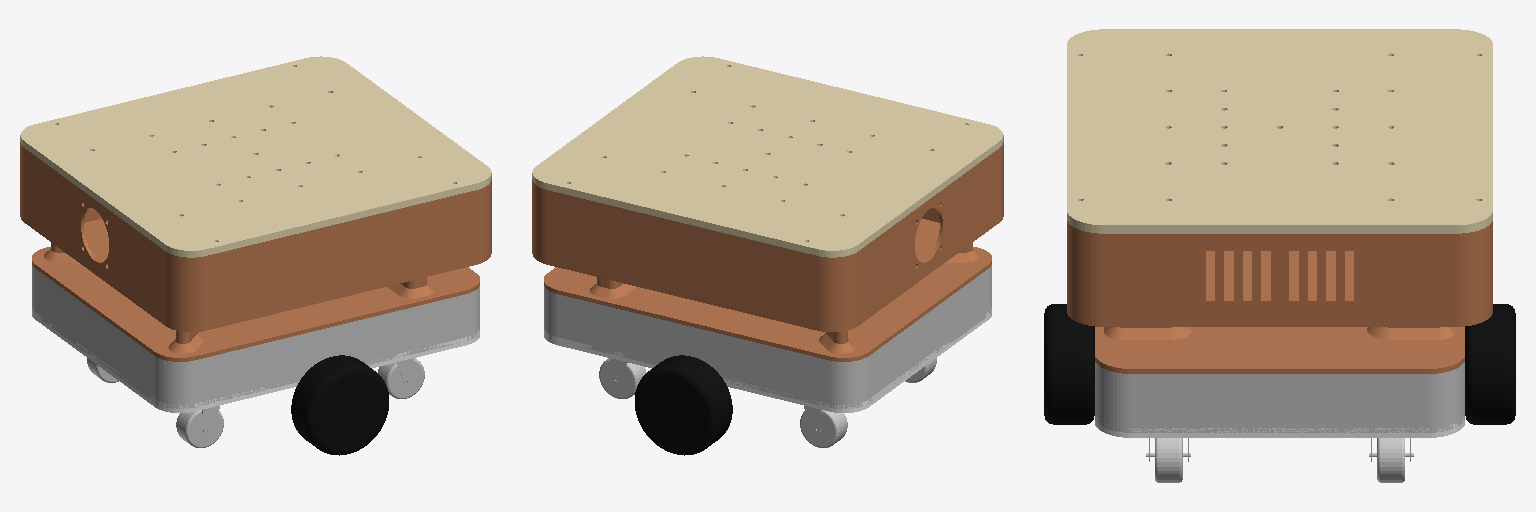
robot.urdf — car_robot:
<?xml version="1.0"?>
<robot name="car_robot">

  <!-- =============================== BÓNG TRÊN MẶT ĐẤT ============================== -->
  <link name="base_footprint"/>

  <!-- Nâng toàn bộ xe lên 5cm để bánh xe vừa chạm đất -->
  <joint name="base_joint" type="fixed">
    <parent link="base_footprint"/>
    <child link="base_link"/>
    <origin xyz="0 0 0.05" rpy="0 0 0"/>
  </joint>

  <!-- =============================== TẦNG ĐÁY (Khung gầm) ========================= -->
  <link name="base_link">
    <!-- KHỐI LƯỢNG & QUÁN TÍNH -->
    <inertial>
      <origin xyz="0 0 0.03" rpy="0 0 0"/>
      <mass value="2.0"/>
      <inertia ixx="0.007266" ixy="0.0" ixz="0.0" iyy="0.011866" iyz="0.0" izz="0.017933"/>
    </inertial>

    <visual>
      <geometry>
        <mesh filename="package://car_desciptionns/meshes/base_link.stl" scale="0.001 0.001 0.001"/>
      </geometry>
      <material name="Silver"><color rgba="0.8 0.8 0.8 1.0"/></material>
    </visual>
    
    <!-- VA CHẠM THÂN XE: Bóp hẹp Y để bánh xe rảnh rang xoay -->
    <collision>
      <origin xyz="0 0 0.03" rpy="0 0 0"/>
      <geometry>
        <box size="0.26 0.15 0.06"/>
      </geometry>
    </collision>

  </link>

  <gazebo reference="base_link">
    <mu1>0.2</mu1>
    <mu2>0.2</mu2>
    <material>Gazebo/Silver</material>
  </gazebo>

  <!-- =============================== 4 BÁNH ĐỠ GÓC (CASTERS) ===================== -->
  <!-- Trước Trái -->
  <joint name="caster_fl_joint" type="fixed">
    <parent link="base_link"/>
    <child link="caster_fl_link"/>
    <origin xyz="0.075 0.06 -0.005" rpy="0 0 0"/>
  </joint>
  <link name="caster_fl_link">
    <inertial>
      <origin xyz="0 0 0.03" rpy="0 0 0"/>
      <mass value="0.05"/>
      <inertia ixx="0.00001" ixy="0.0" ixz="0.0" iyy="0.00001" iyz="0.0" izz="0.00001"/>
    </inertial>
    <visual>
      <origin xyz="0 0 0" rpy="-1.5707963 0 1.5707963"/>
      <geometry>
        <mesh filename="package://car_desciptionns/meshes/wheel_support.stl" scale="0.0003 0.0003 0.0003"/>
      </geometry>
      <material name="Silver"/>
    </visual>
    <collision>
      <origin xyz="0 0 -0.03" rpy="0 0 0"/>
      <geometry>
        <sphere radius="0.015"/>
      </geometry>
    </collision>
  </link>
  <gazebo reference="caster_fl_link">
    <mu1>0.0</mu1>
    <mu2>0.0</mu2>
    <material>Gazebo/Silver</material>
  </gazebo>

  <!-- Trước Phải -->
  <joint name="caster_fr_joint" type="fixed">
    <parent link="base_link"/>
    <child link="caster_fr_link"/>
    <origin xyz="0.075 -0.06 -0.005" rpy="0 0 0"/>
  </joint>
  <link name="caster_fr_link">
    <inertial>
      <origin xyz="0 0 0" rpy="0 0 0"/>
      <mass value="0.05"/>
      <inertia ixx="0.00001" ixy="0.0" ixz="0.0" iyy="0.00001" iyz="0.0" izz="0.00001"/>
    </inertial>
    <visual>
      <!-- Xoay cùm đứng xuống, góc lốp lăn đúng chiều -->
      <origin xyz="0 0 0" rpy="-1.5707963 0 1.5707963"/>
      <geometry>
        <mesh filename="package://car_desciptionns/meshes/wheel_support.stl" scale="0.0003 0.0003 0.0003"/>
      </geometry>
      <material name="Silver"/>
    </visual>
    <collision>
      <origin xyz="0 0 -0.03" rpy="0 0 0"/>
      <geometry>
        <sphere radius="0.015"/>
      </geometry>
    </collision>
  </link>
  <gazebo reference="caster_fr_link">
    <mu1>0.0</mu1>
    <mu2>0.0</mu2>
    <material>Gazebo/Silver</material>
  </gazebo>

  <!-- Sau Trái -->
  <joint name="caster_bl_joint" type="fixed">
    <parent link="base_link"/>
    <child link="caster_bl_link"/>
    <origin xyz="-0.075 0.06 -0.005" rpy="0 0 3.14159"/>
  </joint>
  <link name="caster_bl_link">
    <inertial>
      <origin xyz="0 0 0" rpy="0 0 0"/>
      <mass value="0.05"/>
      <inertia ixx="0.00001" ixy="0.0" ixz="0.0" iyy="0.00001" iyz="0.0" izz="0.00001"/>
    </inertial>
    <visual>
      <!-- Xoay cùm đứng xuống, góc lốp lăn đúng chiều -->
      <origin xyz="0 0 0" rpy="-1.5707963 0 1.5707963"/>
      <geometry>
        <mesh filename="package://car_desciptionns/meshes/wheel_support.stl" scale="0.0003 0.0003 0.0003"/>
      </geometry>
      <material name="Silver"/>
    </visual>
    <collision>
      <origin xyz="0 0 -0.03" rpy="0 0 0"/>
      <geometry>
        <sphere radius="0.015"/>
      </geometry>
    </collision>
  </link>
  <gazebo reference="caster_bl_link">
    <mu1>0.0</mu1>
    <mu2>0.0</mu2>
    <material>Gazebo/Silver</material>
  </gazebo>

  <!-- Sau Phải -->
  <joint name="caster_br_joint" type="fixed">
    <parent link="base_link"/>
    <child link="caster_br_link"/>
    <origin xyz="-0.075 -0.06 -0.005" rpy="0 0 3.14159"/>
  </joint>
  <link name="caster_br_link">
    <inertial>
      <origin xyz="0 0 0" rpy="0 0 0"/>
      <mass value="0.05"/>
      <inertia ixx="0.00001" ixy="0.0" ixz="0.0" iyy="0.00001" iyz="0.0" izz="0.00001"/>
    </inertial>
    <visual>
      <!-- Xoay cùm đứng xuống, góc lốp lăn đúng chiều -->
      <origin xyz="0 0 0" rpy="-1.5707963 0 1.5707963"/>
      <geometry>
        <mesh filename="package://car_desciptionns/meshes/wheel_support.stl" scale="0.0003 0.0003 0.0003"/>
      </geometry>
      <material name="Silver"/>
    </visual>
    <collision>
      <origin xyz="0 0 -0.03" rpy="0 0 0"/>
      <geometry>
        <sphere radius="0.015"/>
      </geometry>
    </collision>
  </link>
  <gazebo reference="caster_br_link">
    <mu1>0.0</mu1>
    <mu2>0.0</mu2>
    <material>Gazebo/Silver</material>
  </gazebo>


  <!-- =============================== NỘI THẤT TRONG BASE_LINK ===================== -->
  <joint name="cover_joint" type="fixed">
    <parent link="base_link"/>
    <child link="cover_link"/>
    <origin xyz="0 0 0" rpy="0 0 0"/>
  </joint>
  <link name="cover_link">
    <inertial>
      <origin xyz="0 0 0" rpy="0 0 0"/>
      <mass value="0.1"/>
      <inertia ixx="0.0001" ixy="0.0" ixz="0.0" iyy="0.0001" iyz="0.0" izz="0.0001"/>
    </inertial>
    <visual>
      <geometry>
        <mesh filename="package://car_desciptionns/meshes/cover.stl" scale="0.001 0.001 0.001"/>
      </geometry>
      <material name="White"><color rgba="0.95 0.95 0.95 1.0"/></material>
    </visual>
    <collision>
      <origin xyz="0 0 0.01" rpy="0 0 0"/>
      <geometry>
        <box size="0.2 0.15 0.02"/>
      </geometry>
    </collision>
  </link>
  <gazebo reference="cover_link">
    <material>Gazebo/White</material>
  </gazebo>

  <!-- Cụm Lidar Nằm Giữa Base Link -->
  <joint name="lidar_holder_joint" type="fixed">
    <parent link="base_link"/>
    <child link="lidar_holder_link"/>
    <origin xyz="0 0 0.013" rpy="0 0 0"/>
  </joint>
  <link name="lidar_holder_link">
    <inertial>
      <origin xyz="0 0 0" rpy="0 0 0"/>
      <mass value="0.05"/>
      <inertia ixx="0.00001" ixy="0.0" ixz="0.0" iyy="0.00001" iyz="0.0" izz="0.00001"/>
    </inertial>
    <visual>
      <geometry>
        <mesh filename="package://car_desciptionns/meshes/lidar_holder.stl" scale="0.001 0.001 0.001"/>
      </geometry>
      <material name="Green"><color rgba="0.2 0.8 0.2 1.0"/></material>
    </visual>
  </link>
  <gazebo reference="lidar_holder_link">
    <material>Gazebo/Green</material>
  </gazebo>

  <joint name="lidar_joint" type="fixed">
    <parent link="lidar_holder_link"/>
    <child link="lidar_link"/>
    <origin xyz="0 0 0.008" rpy="0 0 0"/>
  </joint>
  <link name="lidar_link">
    <inertial>
      <origin xyz="0 0 0" rpy="0 0 0"/>
      <mass value="0.1"/>
      <inertia ixx="0.00005" ixy="0.0" ixz="0.0" iyy="0.00005" iyz="0.0" izz="0.00005"/>
    </inertial>
    <visual>
      <geometry>
        <mesh filename="package://car_desciptionns/meshes/lidar_link.stl" scale="0.001 0.001 0.001"/>
      </geometry>
      <material name="Black"><color rgba="0.05 0.05 0.05 1.0"/></material>
    </visual>
    <collision>
      <origin xyz="0 0 0.01" rpy="0 0 0"/>
      <geometry>
        <cylinder radius="0.035" length="0.04"/>
      </geometry>
    </collision>
  </link>
  <gazebo reference="lidar_link">
    <material>Gazebo/Black</material>
  </gazebo>

  <joint name="laser_joint" type="fixed">
    <parent link="lidar_link"/>
    <child link="laser"/>
    <origin xyz="0 0 0.015" rpy="0 0 0"/>
  </joint>
  <link name="laser"/>


  <!-- =============================== TẦNG THÂN (HOLDER) =========================== -->
  <joint name="holder_joint" type="fixed">
    <parent link="base_link"/>
    <child link="holder_link"/>
    <origin xyz="0 0 0.066" rpy="0 3.14159 0"/>
  </joint>
  <link name="holder_link">
    <inertial>
      <origin xyz="0 0 -0.03" rpy="0 0 0"/>
      <mass value="0.2"/>
      <inertia ixx="0.0002" ixy="0.0" ixz="0.0" iyy="0.0002" iyz="0.0" izz="0.0002"/>
    </inertial>
    <visual>
      <geometry>
        <mesh filename="package://car_desciptionns/meshes/holder.stl" scale="0.001 0.001 0.001"/>
      </geometry>
      <material name="Copper"><color rgba="0.75 0.5 0.35 1.0"/></material>
    </visual>
    <collision>
      <origin xyz="0 0 -0.03" rpy="0 0 0"/>
      <geometry>
        <box size="0.2 0.15 0.06"/>
      </geometry>
    </collision>
  </link>
  <gazebo reference="holder_link">
    <material>Gazebo/Orange</material>
  </gazebo>

  <!-- =============================== TẦNG ÁP MÁI (ADDON) ========================== -->
  <joint name="addon_joint" type="fixed">
    <parent link="base_link"/>
    <child link="addon_link"/>
    <origin xyz="0 0 0.1185" rpy="0 0 0"/>
  </joint>
  <link name="addon_link">
    <inertial>
      <origin xyz="0 0 0.01" rpy="0 0 0"/>
      <mass value="0.1"/>
      <inertia ixx="0.0001" ixy="0.0" ixz="0.0" iyy="0.0001" iyz="0.0" izz="0.0001"/>
    </inertial>
    <visual>
      <geometry>
        <mesh filename="package://car_desciptionns/meshes/addon.stl" scale="0.001 0.001 0.001"/>
      </geometry>
      <material name="PaleYellow"><color rgba="0.9 0.85 0.7 1.0"/></material>
    </visual>
    <collision>
      <origin xyz="0 0 0.01" rpy="0 0 0"/>
      <geometry>
        <box size="0.2 0.15 0.02"/>
      </geometry>
    </collision>
  </link>
  <gazebo reference="addon_link">
    <material>Gazebo/Yellow</material>
  </gazebo>

  <!-- =============================== Camera Front =============================== -->
  <joint name="camera_joint" type="fixed">
    <parent link="addon_link"/>
    <child link="camera_link"/>
    <origin xyz="0.13 0.025 0.08" rpy="1.57 0 1.57"/>
  </joint>
  <link name="camera_link">
    <inertial>
      <origin xyz="0 0 0" rpy="0 0 0"/>
      <mass value="0.05"/>
      <inertia ixx="0.00001" ixy="0.0" ixz="0.0" iyy="0.00001" iyz="0.0" izz="0.00001"/>
    </inertial>
    <visual>
      <geometry>
        <mesh filename="package://car_desciptionns/meshes/astra.stl" scale="0.001 0.001 0.001"/>
      </geometry>
      <material name="Gray"><color rgba="0.5 0.5 0.5 1.0"/></material>
    </visual>
    <collision>
      <origin xyz="0 0 0" rpy="0 0 0"/>
      <geometry>
        <box size="0.04 0.16 0.03"/>
      </geometry>
    </collision>
  </link>
  <gazebo reference="camera_link">
    <material>Gazebo/Grey</material>
  </gazebo>

  <joint name="image_joint" type="fixed">
    <parent link="camera_link"/>
    <child link="image"/>
    <origin xyz="0 0 0.015" rpy="0 0 0"/>
  </joint>
  <link name="image"/>

  <!-- =============================== 2 BÁNH XE ===================== -->
  <!-- Bánh Trái -->
  <joint name="wheel_left_joint" type="continuous">
    <parent link="base_link"/>
    <child link="wheel_left_link"/>
    <origin xyz="0 0.127 -0.0175" rpy="0 0 0"/>
    <axis xyz="0 1 0"/>
  </joint>
  <link name="wheel_left_link">
    <inertial>
      <!-- Cyliner quanh trục Y, ma trận xoay quanh Y -->
      <origin xyz="0 0 0" rpy="1.5707963 0 0"/>
      <mass value="0.2"/>
      <inertia ixx="0.0000632" ixy="0.0" ixz="0.0" iyy="0.0001056" iyz="0.0" izz="0.0000632"/>
    </inertial>
    <visual>
      <geometry>
        <mesh filename="package://car_desciptionns/meshes/wheel.stl" scale="0.001 0.001 0.001"/>
      </geometry>
      <material name="Tire_Black"><color rgba="0.1 0.1 0.1 1.0"/></material>
    </visual>
    <collision>
      <origin xyz="0 0 0" rpy="1.5707963 0 0"/>
      <geometry>
        <cylinder radius="0.0325" length="0.025"/>
      </geometry>
    </collision>
  </link>
  <gazebo reference="wheel_left_link">
    <mu1>1.0</mu1>
    <mu2>1.0</mu2>
    <!-- Trục lăn dọc theo trục xoay Y của lốp -->
    <fdirl>0 0 1</fdirl>
    <material>Gazebo/DarkGrey</material>
  </gazebo>

  <!-- Bánh Phải -->
  <joint name="wheel_right_joint" type="continuous">
    <parent link="base_link"/>
    <child link="wheel_right_link"/>
    <!-- Xoay ngược góc RPY = 0 0 3.14159 (180 độ) để mặt đẹp quay ra ngoài -->
    <origin xyz="0 -0.127 -0.0175" rpy="0 0 3.14159"/>
    <!-- Do quay ngược 180 độ theo Z, trục quay Y bị đảo ngược hướng, nên Axis phải là 0 -1 0 -->
    <axis xyz="0 -1 0"/>
  </joint>
  <link name="wheel_right_link">
    <inertial>
      <origin xyz="0 0 0" rpy="1.5707963 0 0"/>
      <mass value="0.2"/>
      <inertia ixx="0.0000632" ixy="0.0" ixz="0.0" iyy="0.0001056" iyz="0.0" izz="0.0000632"/>
    </inertial>
    <visual>
      <geometry>
        <mesh filename="package://car_desciptionns/meshes/wheel.stl" scale="0.001 0.001 0.001"/>
      </geometry>
      <material name="Tire_Black"/>
    </visual>
    <collision>
      <origin xyz="0 0 0" rpy="1.5707963 0 0"/>
      <geometry>
        <cylinder radius="0.0325" length="0.025"/>
      </geometry>
    </collision>
  </link>
  <gazebo reference="wheel_right_link">
    <mu1>1.0</mu1>
    <mu2>1.0</mu2>
    <fdir1>0 0 1</fdir1>
    <material>Gazebo/DarkGrey</material>
  </gazebo>

  <!-- =============================== GAZEBO ROS DIFF DRIVE ===================== -->
  <gazebo>
    <plugin name="diff_drive" filename="libgazebo_ros_diff_drive.so">
      <!-- Cấu hình khớp -->
      <left_joint>wheel_left_joint</left_joint>
      <right_joint>wheel_right_joint</right_joint>

      <!-- Kích thước -->
      <wheel_separation>0.254</wheel_separation>
      <wheel_diameter>0.065</wheel_diameter>

      <!-- Giới hạn Lực & Tốc độ -->
      <max_wheel_torque>20</max_wheel_torque>
      <max_wheel_acceleration>1.0</max_wheel_acceleration>

      <!-- Odom -->
      <publish_odom>true</publish_odom>
      <publish_odom_tf>true</publish_odom_tf>
      <publish_wheel_tf>true</publish_wheel_tf>

      <odometry_frame>odom</odometry_frame>
      <robot_base_frame>base_footprint</robot_base_frame>
    </plugin>
  </gazebo>

</robot>

--- Render facts (derived) ---
3 views of the same robot in one strip: view 1: azimuth 30°, elevation 25°; view 2: azimuth 150°, elevation 25°; view 3: azimuth 270°, elevation 25° (orthographic).
Model car_robot with 16 links and 15 joints (2 continuous, 13 fixed), rooted at base_footprint, posed all joints at 0.
Links seen in each view (by area): view 1: addon_link, holder_link, base_link, wheel_right_link, cover_link, caster_br_link, caster_fr_link; view 2: addon_link, holder_link, base_link, wheel_left_link, cover_link, caster_bl_link, caster_fl_link; view 3: addon_link, holder_link, base_link, wheel_left_link, wheel_right_link, cover_link, caster_fl_link, caster_fr_link.
Boxes of the visible links, <box> form: addon_link: <box>20,56,491,257</box>; holder_link: <box>20,142,491,361</box>; base_link: <box>32,265,479,408</box>; wheel_right_link: <box>291,355,388,455</box>; cover_link: <box>32,308,479,412</box>; caster_br_link: <box>176,406,223,447</box>; caster_fr_link: <box>378,358,424,398</box>; addon_link: <box>532,56,1003,257</box>; holder_link: <box>532,142,1003,361</box>; base_link: <box>544,265,991,408</box>; wheel_left_link: <box>635,355,732,455</box>; cover_link: <box>544,308,991,412</box>; caster_bl_link: <box>800,406,847,447</box>; caster_fl_link: <box>599,358,645,398</box>; addon_link: <box>1067,29,1492,233</box>; holder_link: <box>1067,221,1492,373</box>; base_link: <box>1095,362,1464,432</box>; wheel_left_link: <box>1465,304,1515,424</box>; wheel_right_link: <box>1044,304,1094,424</box>; cover_link: <box>1095,417,1464,437</box>; caster_fl_link: <box>1369,438,1413,482</box>; caster_fr_link: <box>1146,438,1190,482</box>.
Size in the robot's own frame: 0.25 by 0.254 by 0.1735 metres.
12 mesh visuals loaded from 9 distinct referenced files (8 binary STL); not drawn: 1 (reference not matched to a file when rendering).
